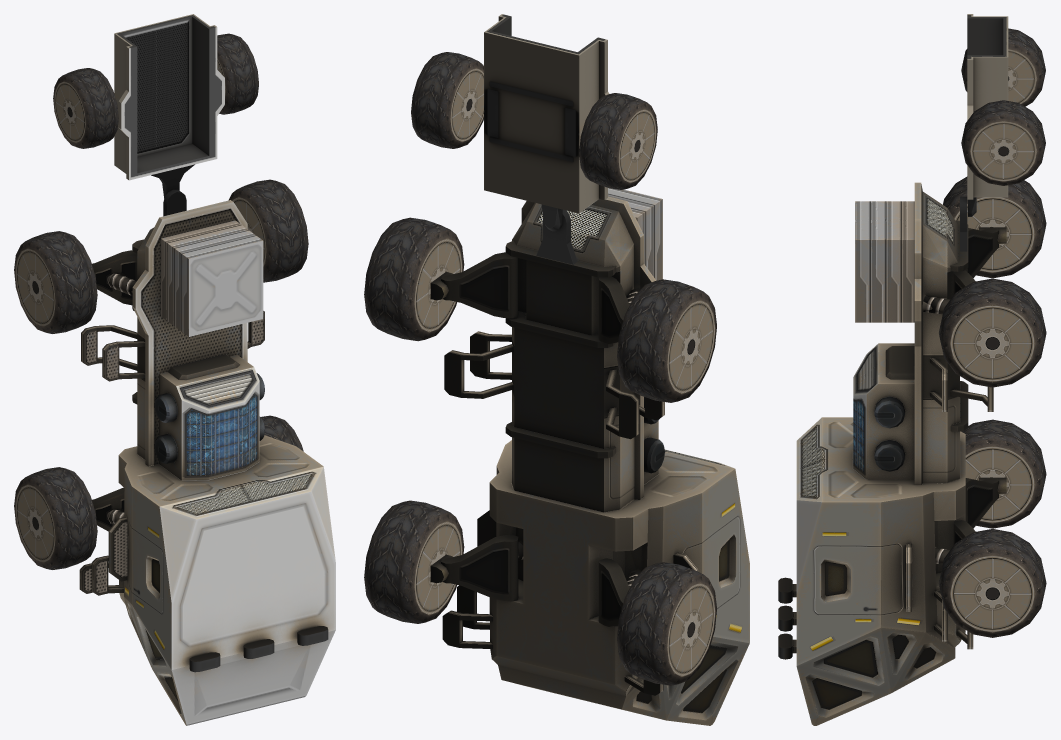
File: mars_explorer.obj
The picture shows the model from 3 angles, left to right: view 1: azimuth 30°, elevation 25°; view 2: azimuth 150°, elevation 25°; view 3: azimuth 270°, elevation 25°; orthographic projection. The views are drawn at different scales.
Parts seen in each view (by area): view 1: mars_explorer; view 2: mars_explorer; view 3: mars_explorer.
Boxes of the visible parts, x1,y1,x2,y2 form: mars_explorer: (14,14,335,725); mars_explorer: (364,14,749,725); mars_explorer: (778,14,1046,725).
Size of the model in its own units: 150 by 353 by 130.
